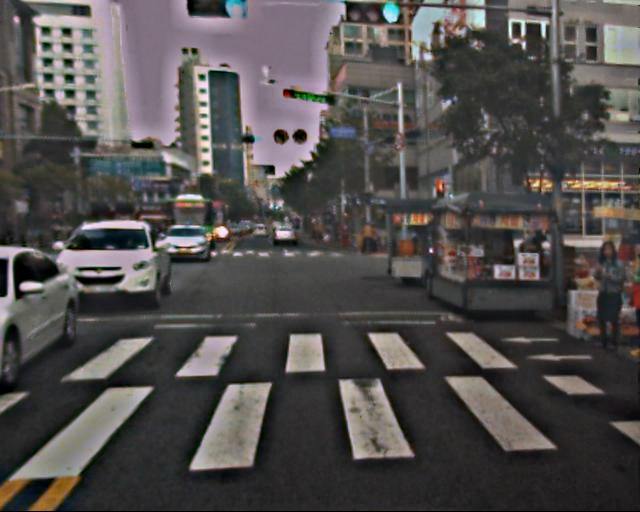person: (582, 239, 628, 351), (621, 238, 640, 363)
